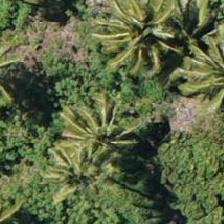coconut_tree: (59, 96, 149, 186), (90, 0, 180, 77), (171, 24, 223, 114)
